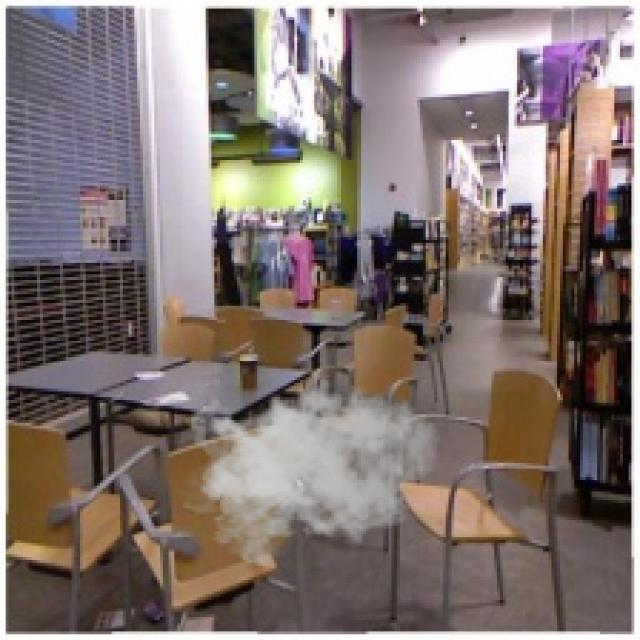smoke: (183, 366, 440, 566)
